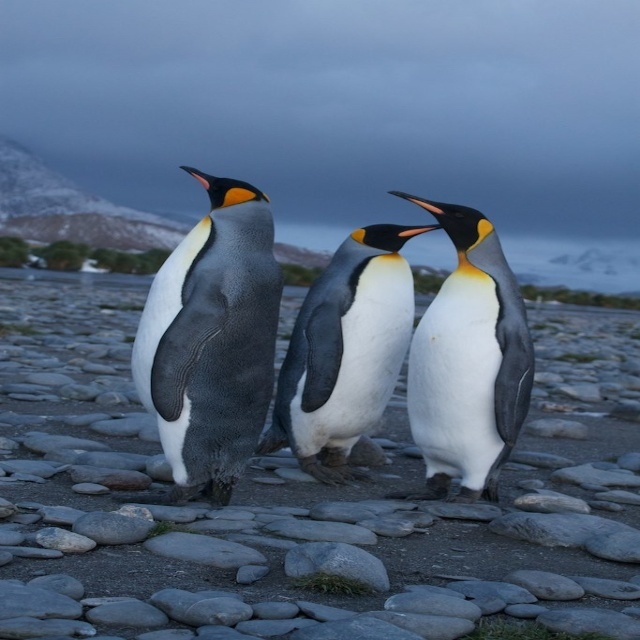Penguin: (126, 162, 291, 511), (380, 188, 536, 509), (257, 224, 445, 485)
